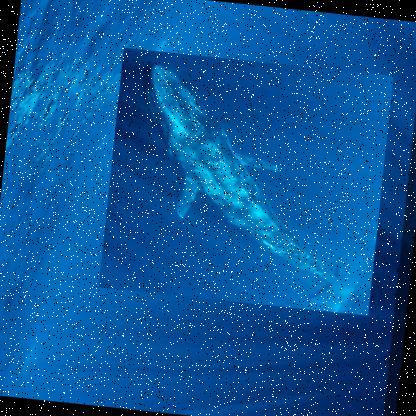blue_whale: (98, 47, 394, 316)
